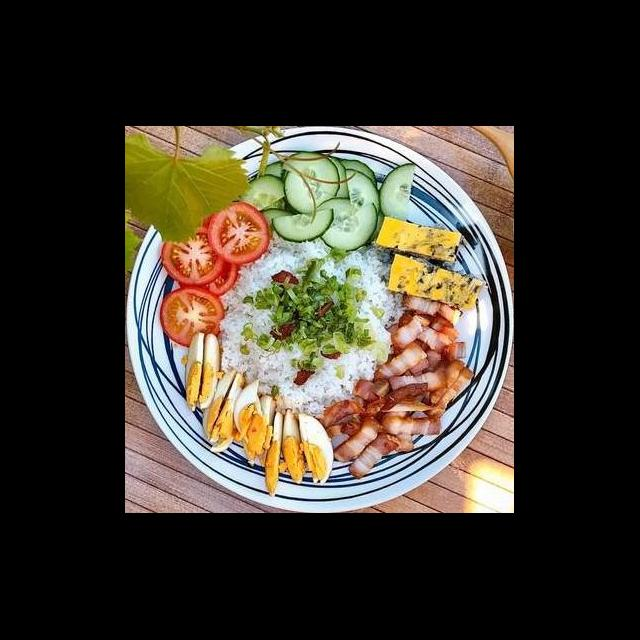cha: (384, 252, 486, 314), (374, 214, 464, 270)
com: (215, 238, 408, 420)
com suon bi cha trung: (138, 156, 512, 514)
suon: (318, 364, 451, 482), (370, 293, 480, 392)
trung: (260, 408, 336, 500), (230, 378, 284, 472), (200, 368, 250, 454), (178, 332, 224, 416)
